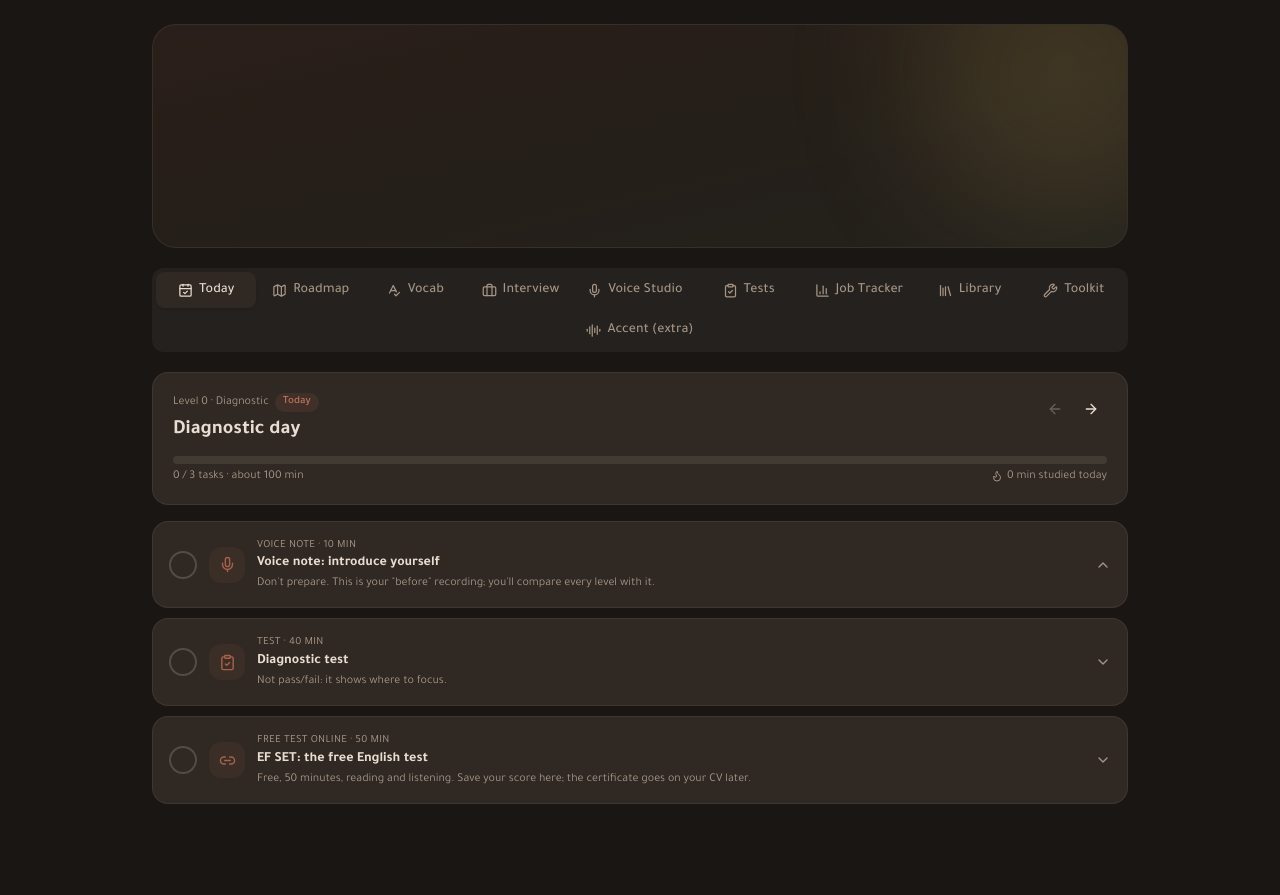
Test case: Call Center Prep › lets you fix, flag and check your own words
Click the tab "Vocab" at coordinates (415, 290), box 365,272 -> 466,308
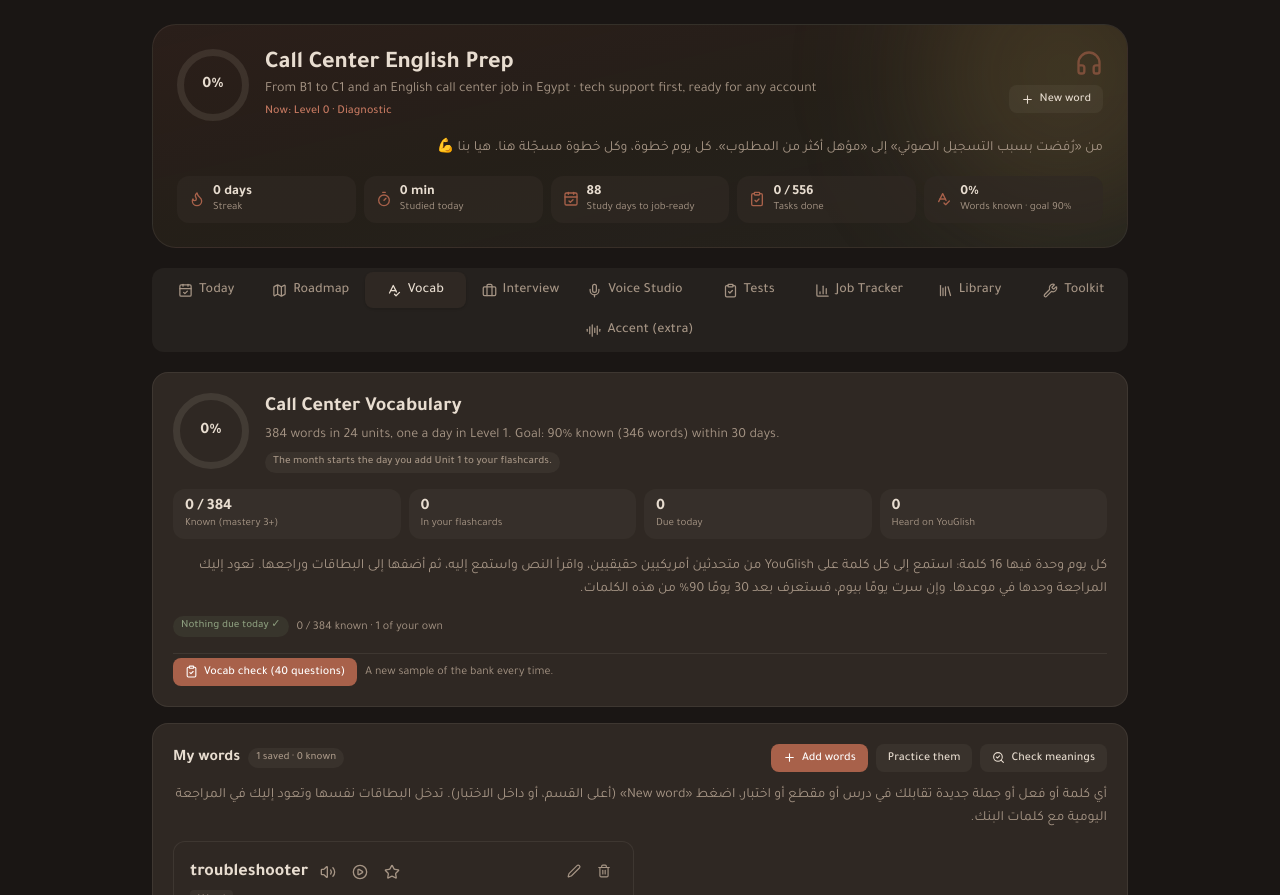
Result: the heading "troubleshooter" is shown at 190,858 -> 308,886
Result: the button titled "Edit" is shown at 561,858 -> 587,884
Result: the button "Check meanings" is shown at 980,744 -> 1107,772
